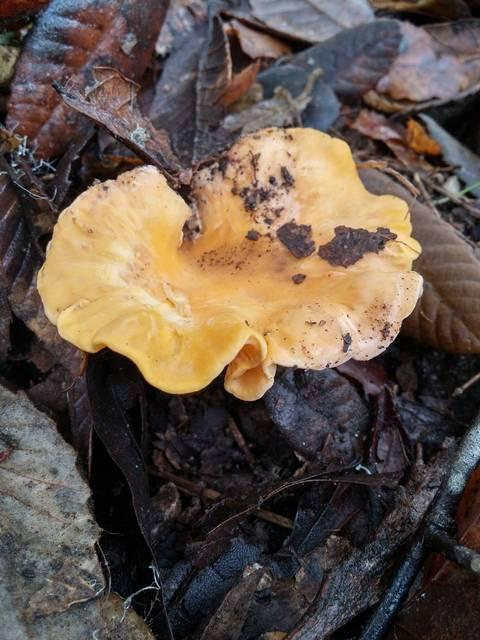edible_mushroom: (35, 124, 426, 402)
